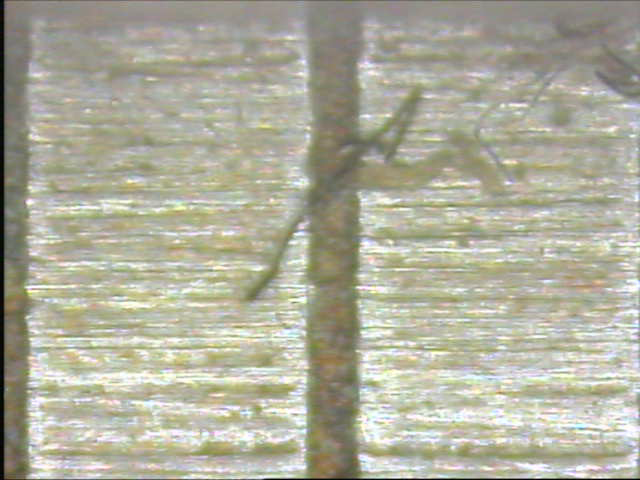line: (304, 1, 367, 476)
